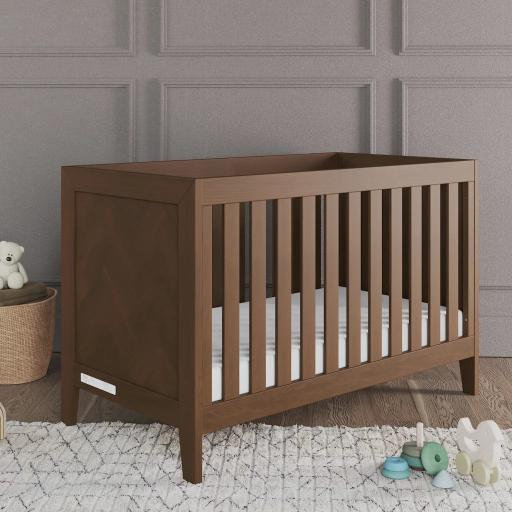crib: (62, 153, 478, 482)
